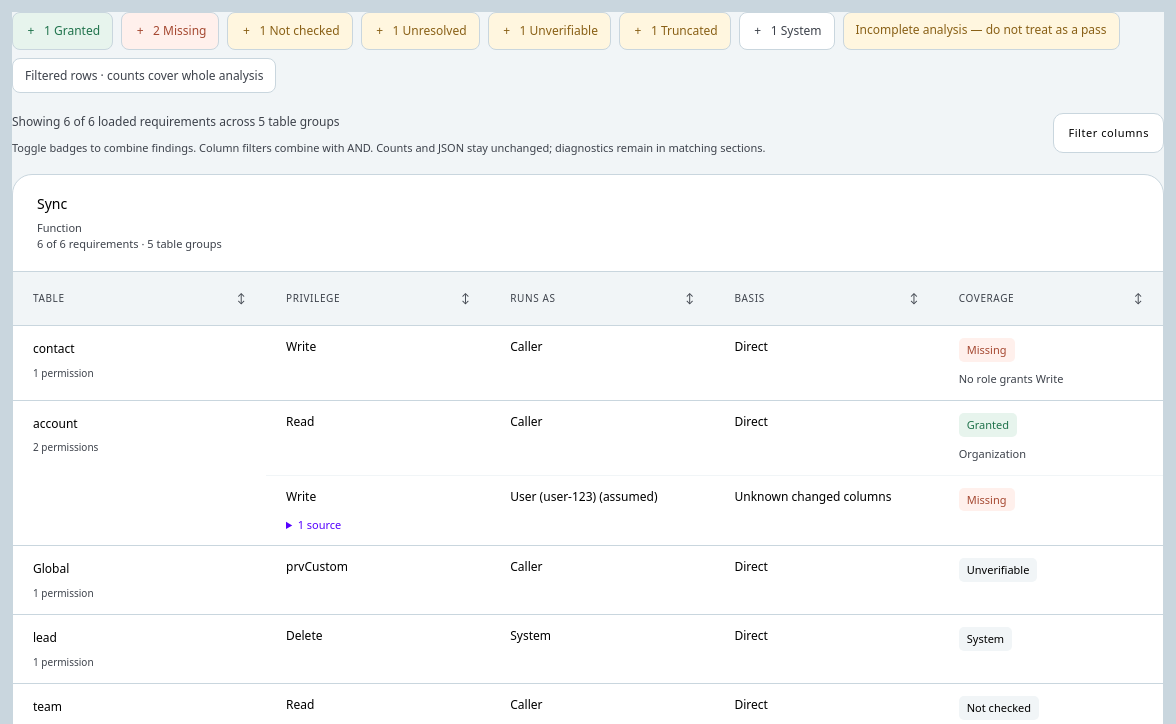
Interactive report results › sorts ascending, descending, then original order with deterministic ties and aria-sort
This screenshot has width=1176, height=724.
Later steps or results of the test are not shown.
Click the button with aria-label "Sort by table" at point(140, 299), box left=33, top=286, right=246, bottom=311
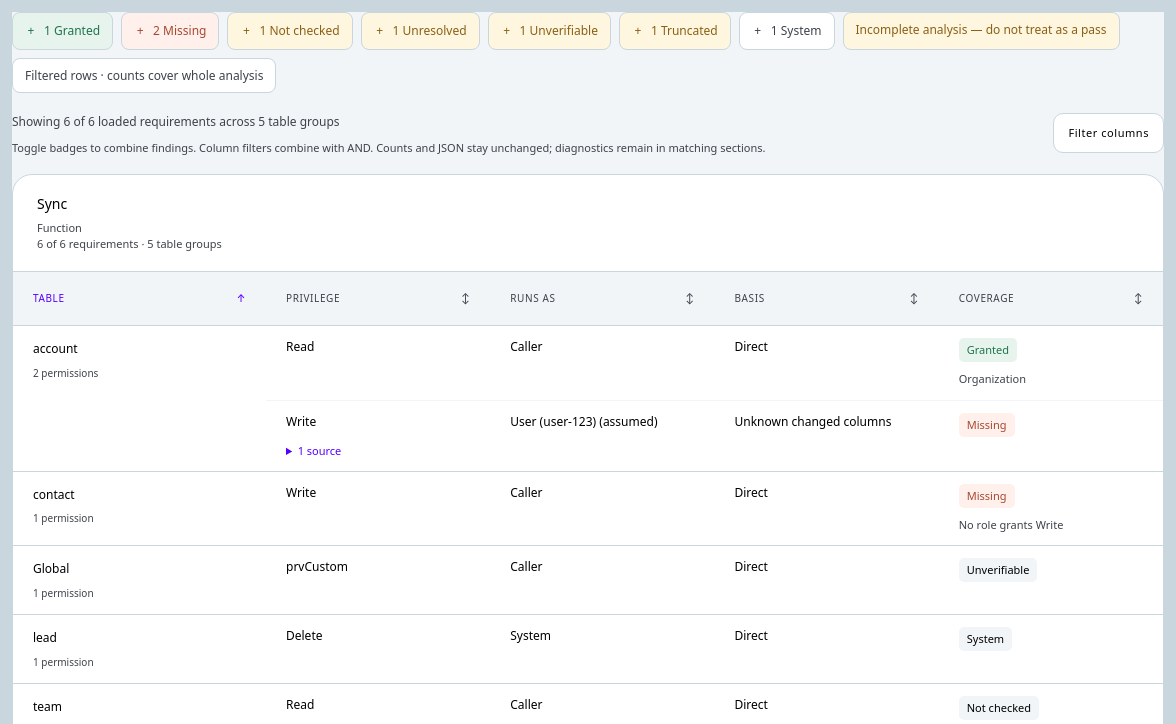
Expected: the column heading named "Sort by table" has attribute aria-sort="ascending", left=13, top=272, right=266, bottom=326
Click the button with aria-label "Sort by table" at point(140, 299), box left=33, top=286, right=246, bottom=311
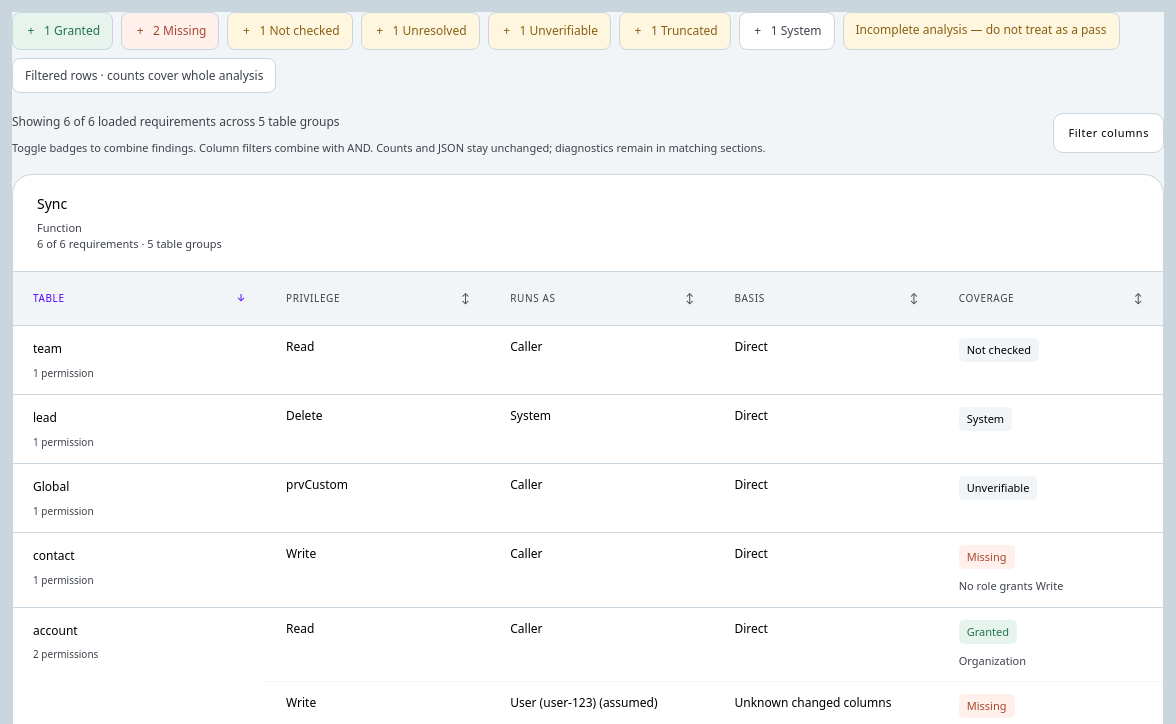
Expected: the column heading "team 1 permission" is shown, left=13, top=326, right=266, bottom=395
Click the button with aria-label "Sort by table" at point(140, 299), box left=33, top=286, right=246, bottom=311
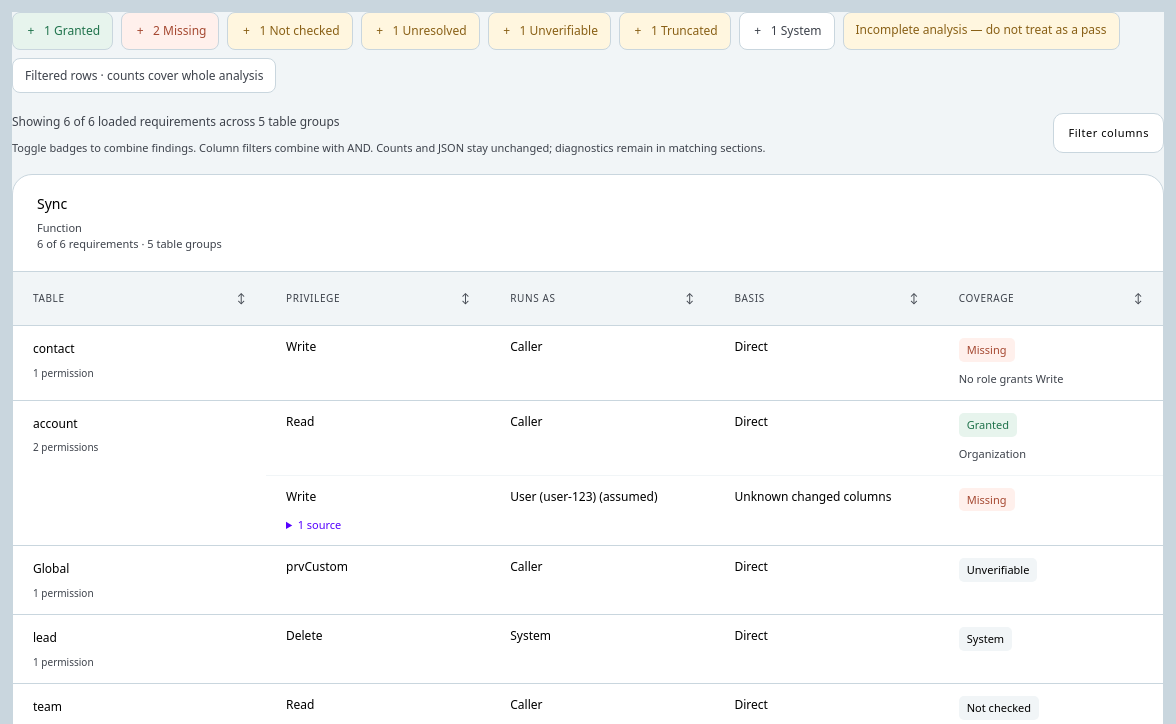
Expected: the column heading "contact 1 permission" is shown, left=13, top=326, right=266, bottom=400
Expected: the column heading named "Sort by table" has attribute aria-sort="none", left=13, top=272, right=266, bottom=326
